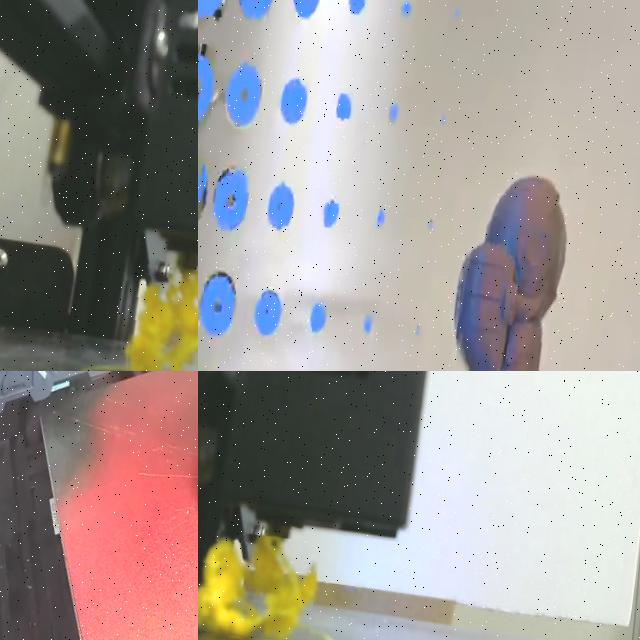spaghetti: (198, 535, 315, 640), (128, 272, 198, 371)
